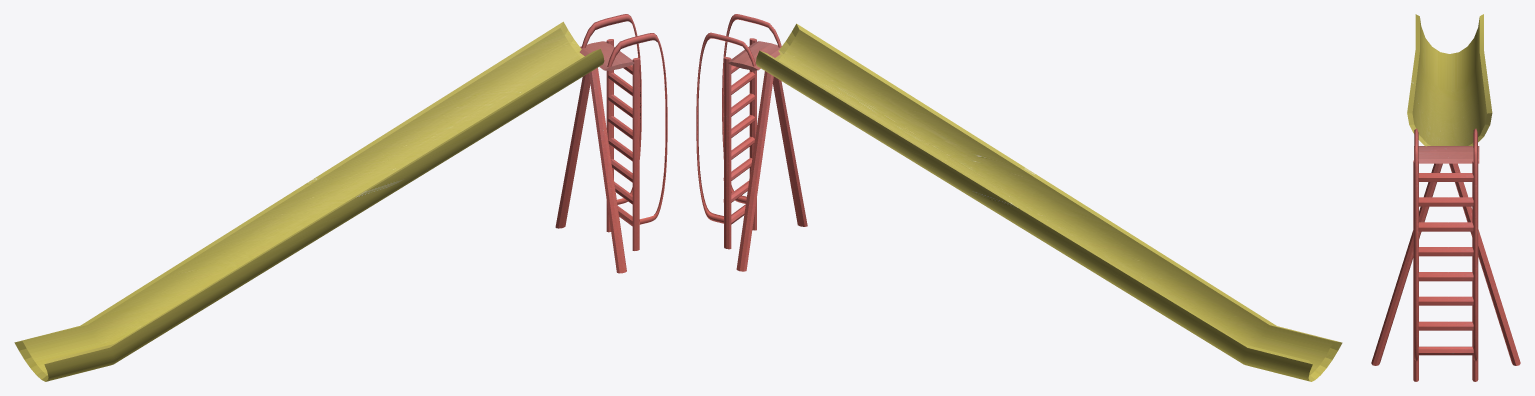
The model's file is Final_slide 10_22.fbx.
The picture shows the model from 3 angles, left to right: view 1: azimuth 30°, elevation 25°; view 2: azimuth 150°, elevation 25°; view 3: azimuth 270°, elevation 25°; orthographic projection. The views are drawn at different scales.
Parts seen in each view (by area): view 1: polySurface130, polySurface129, polySurface125, polySurface37, polySurface57, polySurface63, polySurface45, polySurface64; view 2: polySurface130, polySurface125, polySurface64, polySurface129, polySurface63, polySurface45, polySurface57, polySurface37; view 3: polySurface130, polySurface129, polySurface125, polySurface63, polySurface57, polySurface45, polySurface37, polySurface64, pCylinder50, pCylinder60, pCylinder61, pCylinder63 (+4 smaller).
Part boxes in pixels (bbox=[...]): polySurface130: bbox=[14, 21, 604, 381]; polySurface129: bbox=[589, 67, 626, 273]; polySurface125: bbox=[555, 73, 590, 228]; polySurface37: bbox=[632, 57, 639, 250]; polySurface57: bbox=[607, 33, 667, 224]; polySurface63: bbox=[581, 14, 641, 204]; polySurface45: bbox=[579, 41, 634, 70]; polySurface64: bbox=[606, 39, 613, 232]; polySurface130: bbox=[756, 23, 1342, 381]; polySurface125: bbox=[736, 71, 773, 271]; polySurface64: bbox=[724, 57, 731, 249]; polySurface129: bbox=[773, 76, 807, 226]; polySurface63: bbox=[696, 32, 755, 223]; polySurface45: bbox=[727, 41, 780, 70]; polySurface57: bbox=[722, 14, 781, 203]; polySurface37: bbox=[749, 38, 756, 230]; polySurface130: bbox=[1407, 14, 1492, 146]; polySurface129: bbox=[1371, 163, 1442, 365]; polySurface125: bbox=[1449, 163, 1520, 365]; polySurface63: bbox=[1473, 128, 1477, 361]; polySurface57: bbox=[1414, 128, 1418, 361]; polySurface45: bbox=[1414, 146, 1479, 163]; polySurface37: bbox=[1413, 160, 1418, 381]; polySurface64: bbox=[1472, 160, 1478, 381]; pCylinder50: bbox=[1418, 346, 1473, 355]; pCylinder60: bbox=[1418, 272, 1473, 281]; pCylinder61: bbox=[1418, 247, 1473, 256]; pCylinder63: bbox=[1418, 222, 1473, 231].
Size of the model in its own units: 0.2255 by 0.0742 by 0.0409.
Materials: 5 (5 with a texture image).
